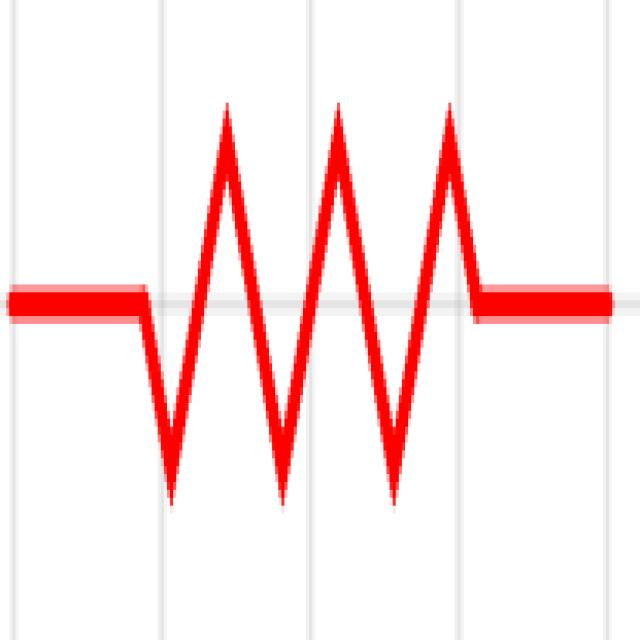res: (5, 22, 623, 553)
